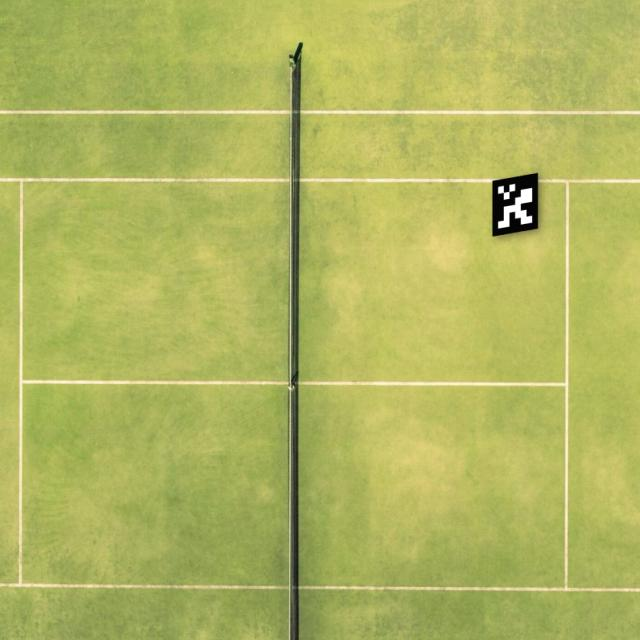marker: (482, 163, 552, 240)
